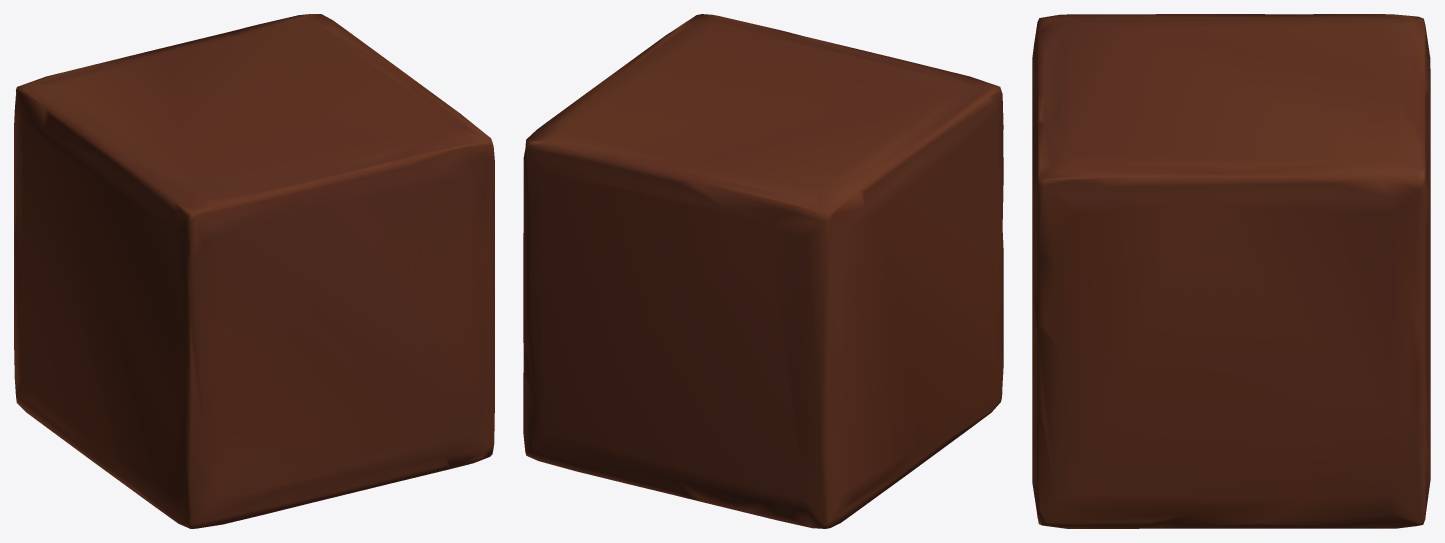
Rendered from gen3d-chocolate-lod1.glb.
3 renders of one model, left to right at view 1: azimuth 30°, elevation 25°; view 2: azimuth 150°, elevation 25°; view 3: azimuth 270°, elevation 25°, orthographic. The views are drawn at different scales.
Visible parts, largest first — view 1: part_0; view 2: part_0; view 3: part_0.
Boxes of the visible parts, bbox=[...] form: part_0: bbox=[14, 14, 494, 528]; part_0: bbox=[523, 14, 1003, 528]; part_0: bbox=[1032, 14, 1430, 528].
Bounding box in the file's own units: 1 × 1 × 1.
